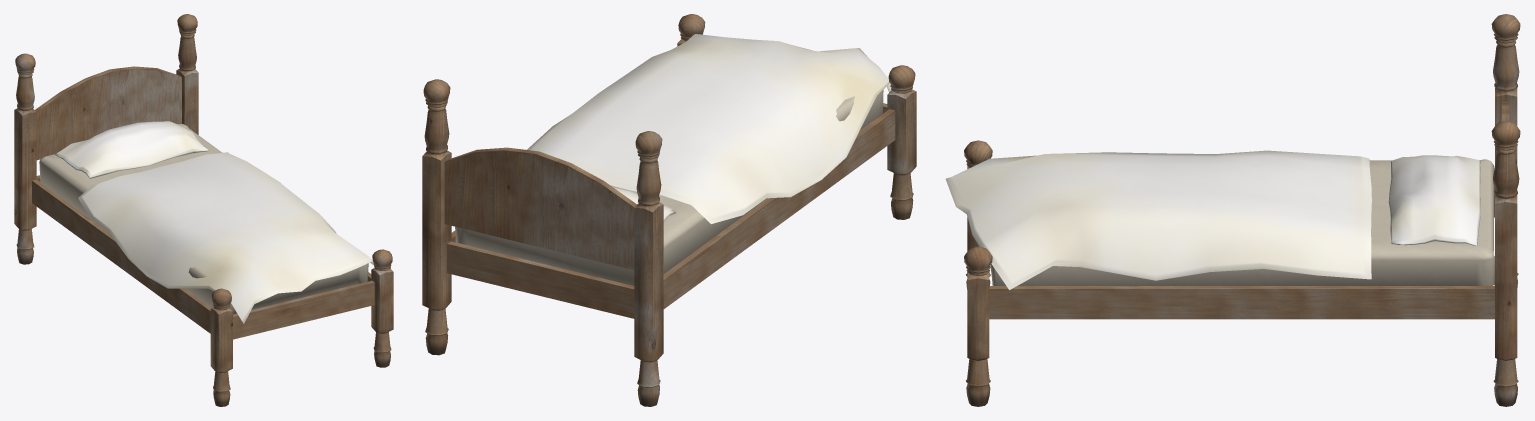
The model's file is bed.glb.
3 views of the same model, side by side, from view 1: azimuth 30°, elevation 25°; view 2: azimuth 150°, elevation 25°; view 3: azimuth 270°, elevation 25° (orthographic). The views are drawn at different scales.
Parts seen in each view (by area): view 1: Bed; view 2: Bed; view 3: Bed.
Boxes of the visible parts, x1,y1,x2,y2 form: Bed: (14, 14, 393, 406); Bed: (422, 14, 916, 406); Bed: (945, 14, 1520, 406).
Bounding box in the file's own units: 1.27 × 1.39 × 2.58.
3 materials, 3 textured.
